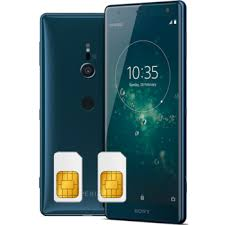sony: (102, 1, 188, 224)
